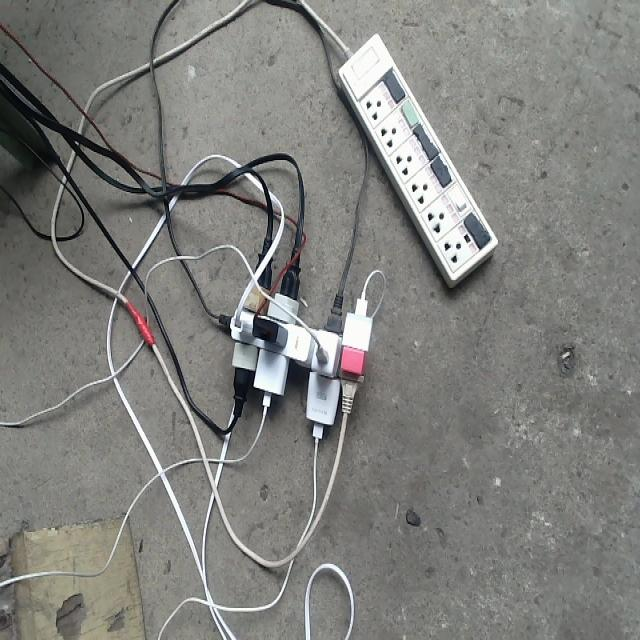-: (219, 288, 374, 429)
